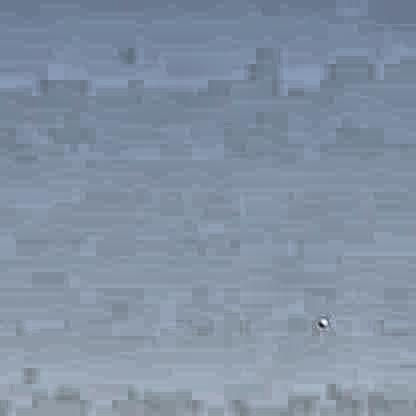golfball: (315, 315, 325, 325)
